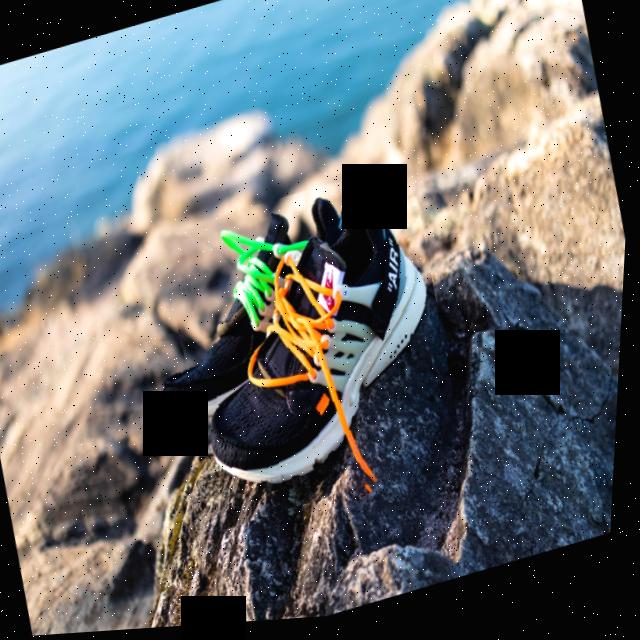shoe: (148, 161, 482, 540), (121, 187, 385, 457)
